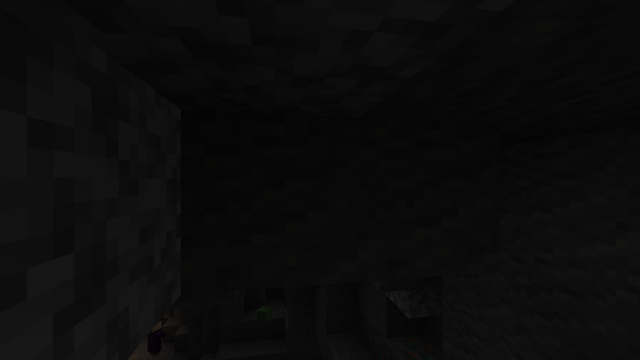slimes: (258, 305, 269, 322)
sorcieres: (145, 324, 161, 358)
